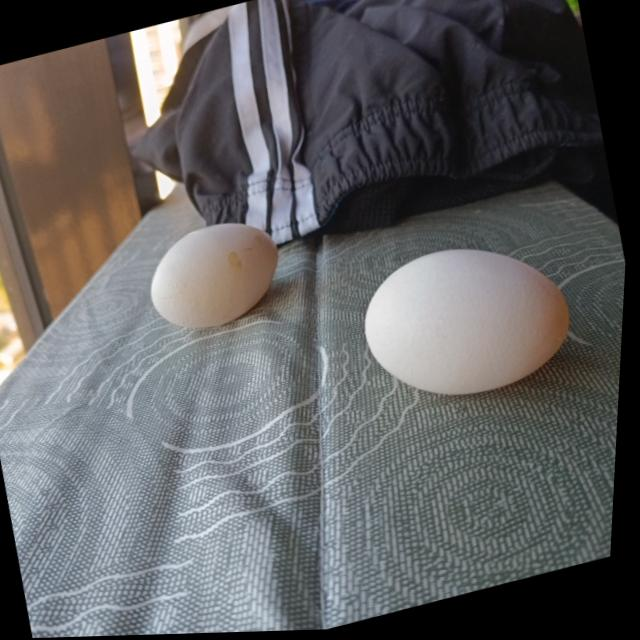egg: (352, 227, 588, 417), (142, 212, 294, 339)
